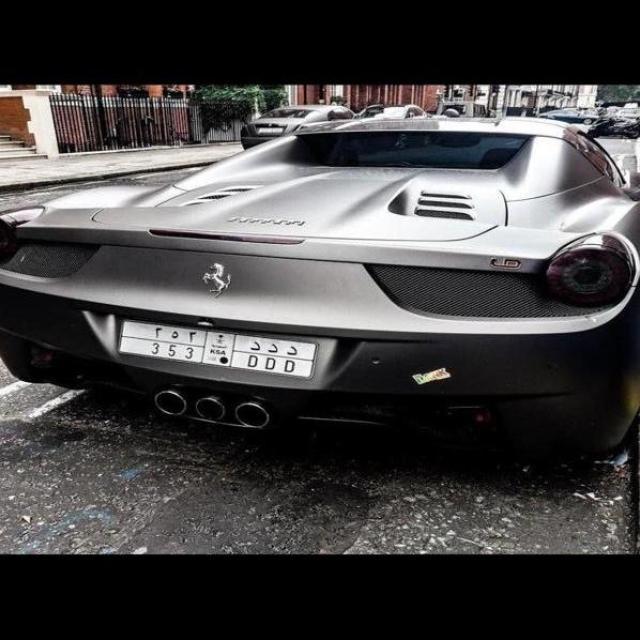license_plate: (118, 315, 314, 381)
